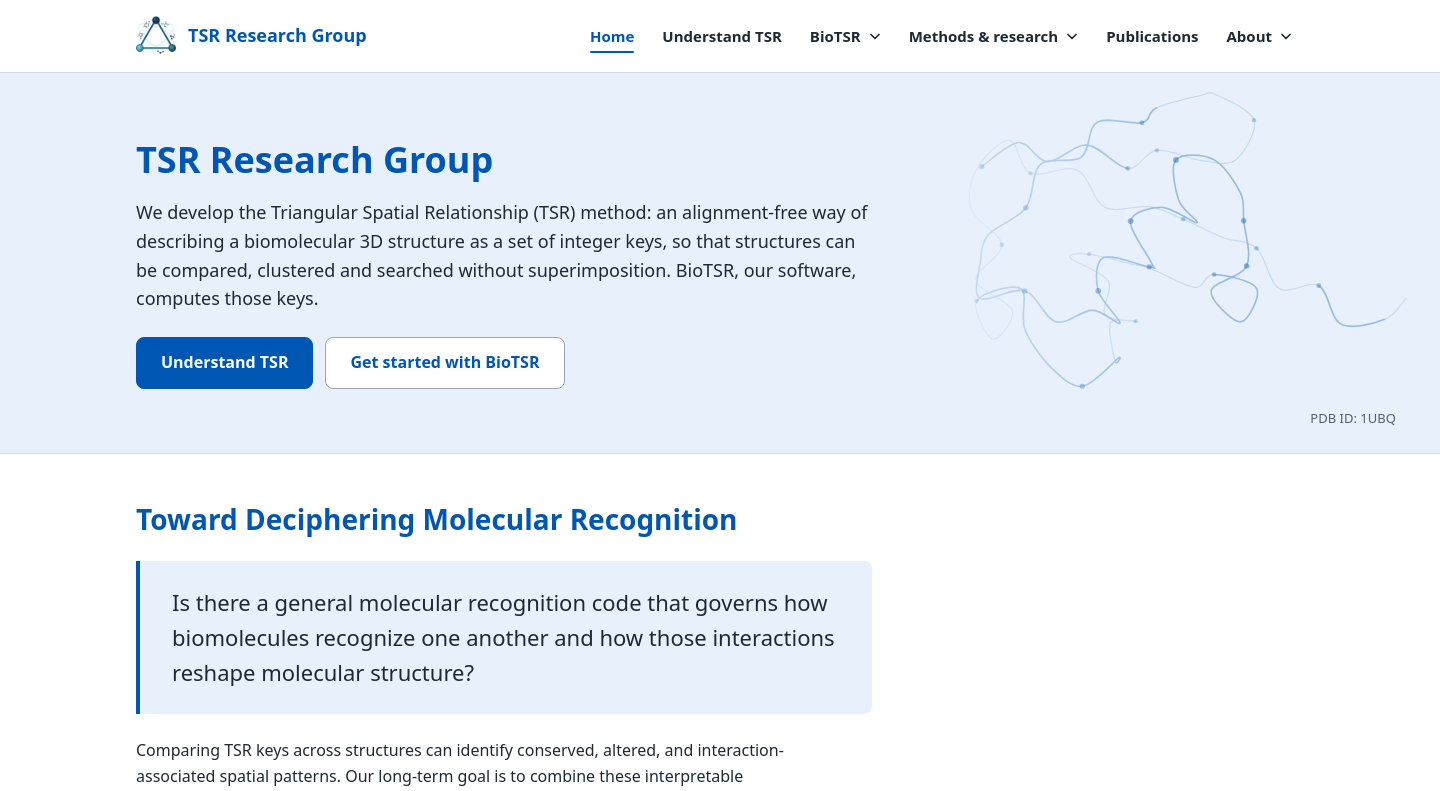
Test: /tsr route › is reachable from the main navigation
Click the link "Understand TSR" next to "Home".
click(722, 36)  # box [662,26,782,46]
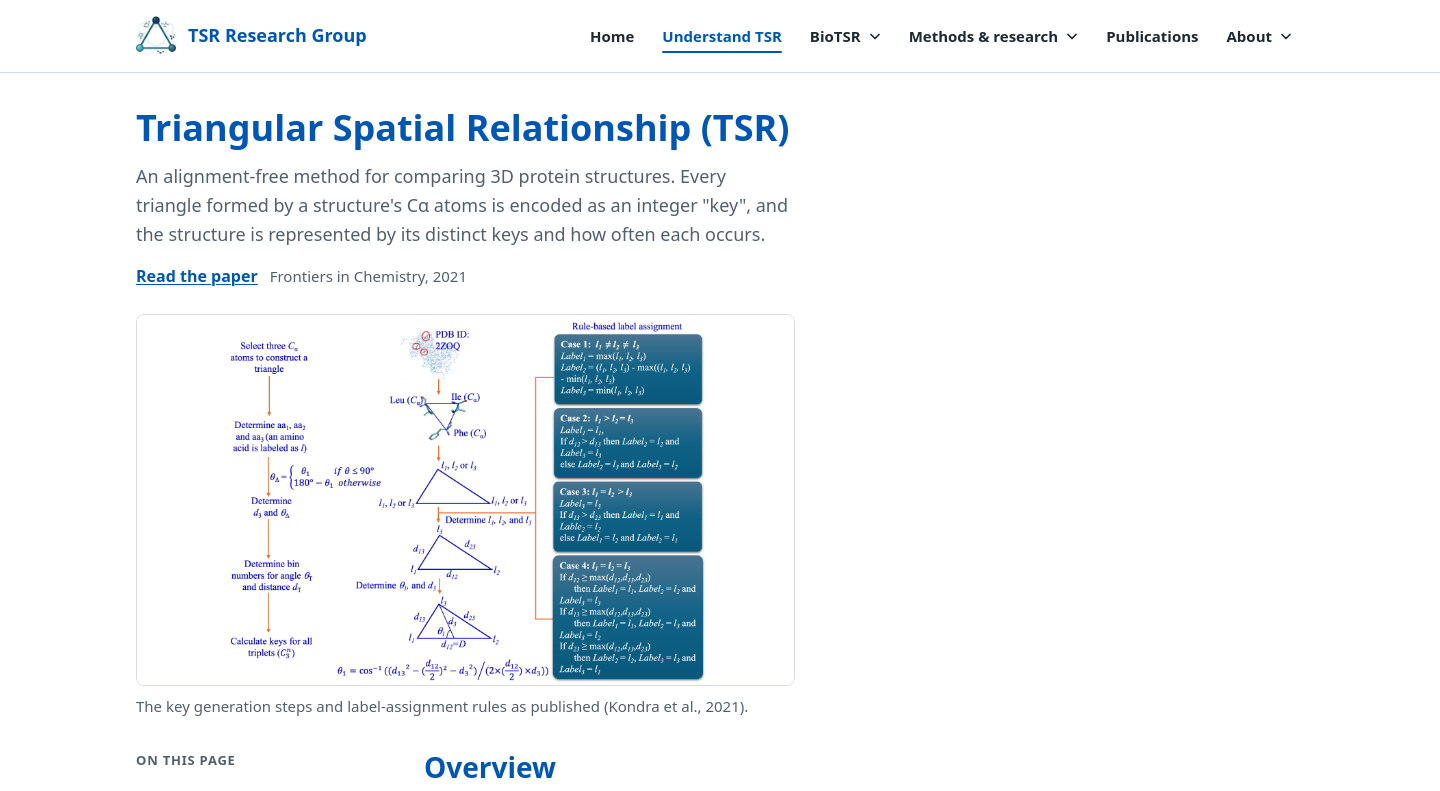
Expected: the heading "Triangular Spatial Relationship (TSR)" is shown, [136,105,795,150]
